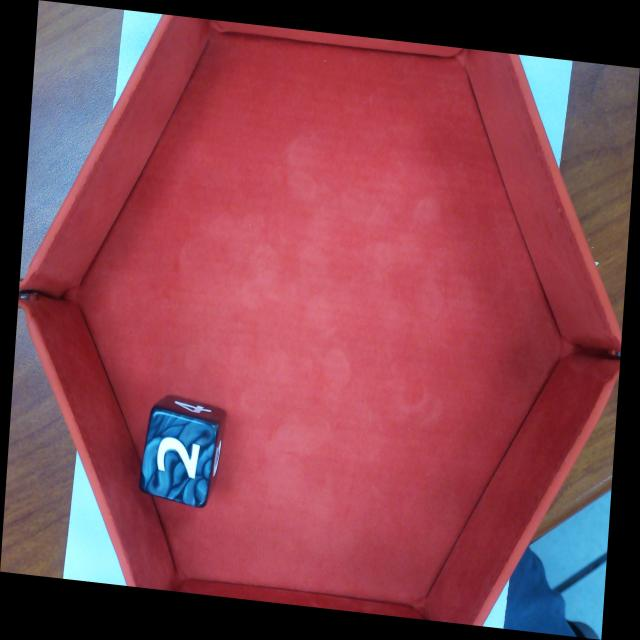dice: (142, 414, 217, 506)
